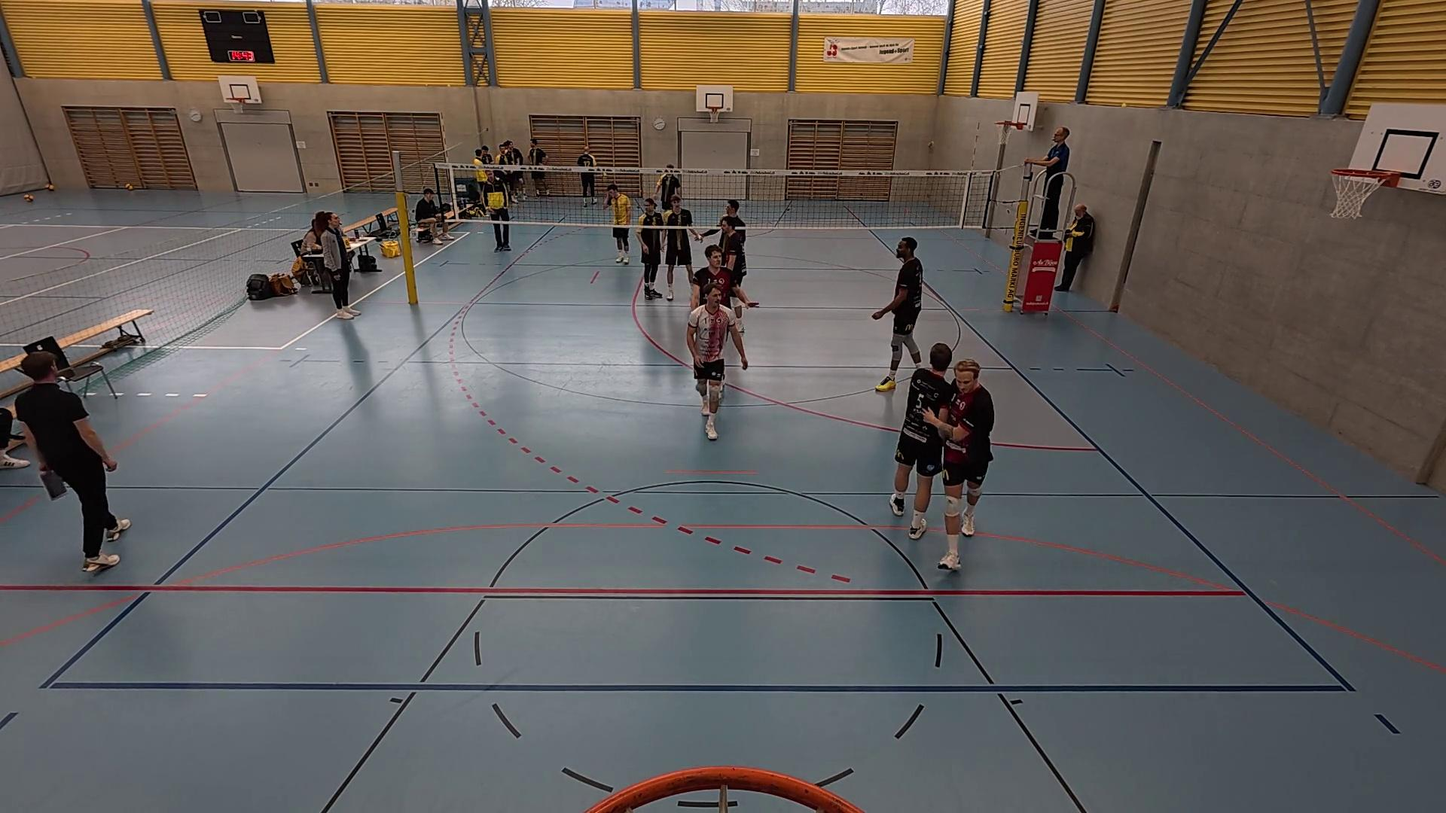Player: (888, 342, 961, 539), (932, 355, 993, 569), (688, 239, 762, 403), (685, 281, 747, 440), (871, 237, 924, 392), (712, 199, 754, 310), (663, 192, 699, 300), (715, 218, 748, 334), (635, 194, 670, 300), (609, 183, 636, 266), (575, 143, 601, 212), (655, 163, 682, 210)
